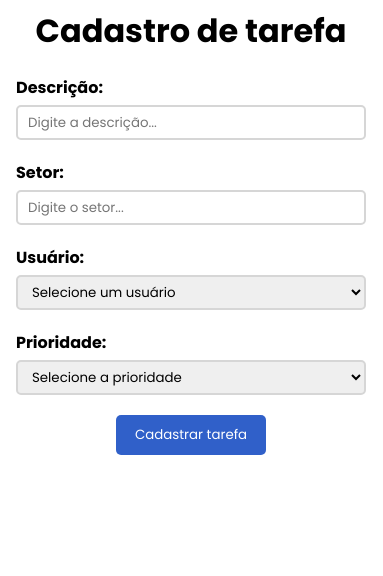
it: CadTarefa - testes completos › Deve exibir erros ao enviar formulário vazio
Click the button "Cadastrar tarefa": (191,435) [116,415,266,455]
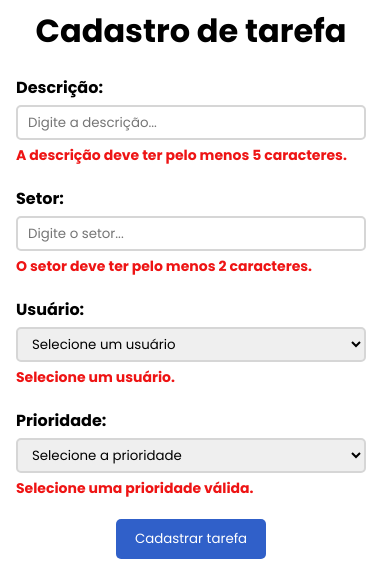
expect the text "A descrição deve ter pelo menos 5 caracteres." is shown: met, box [16,145,366,166]
expect the text "O setor deve ter pelo menos 2 caracteres." is shown: met, box [16,256,312,276]
expect the text "Selecione um usuário." is shown: met, box [16,367,175,387]
